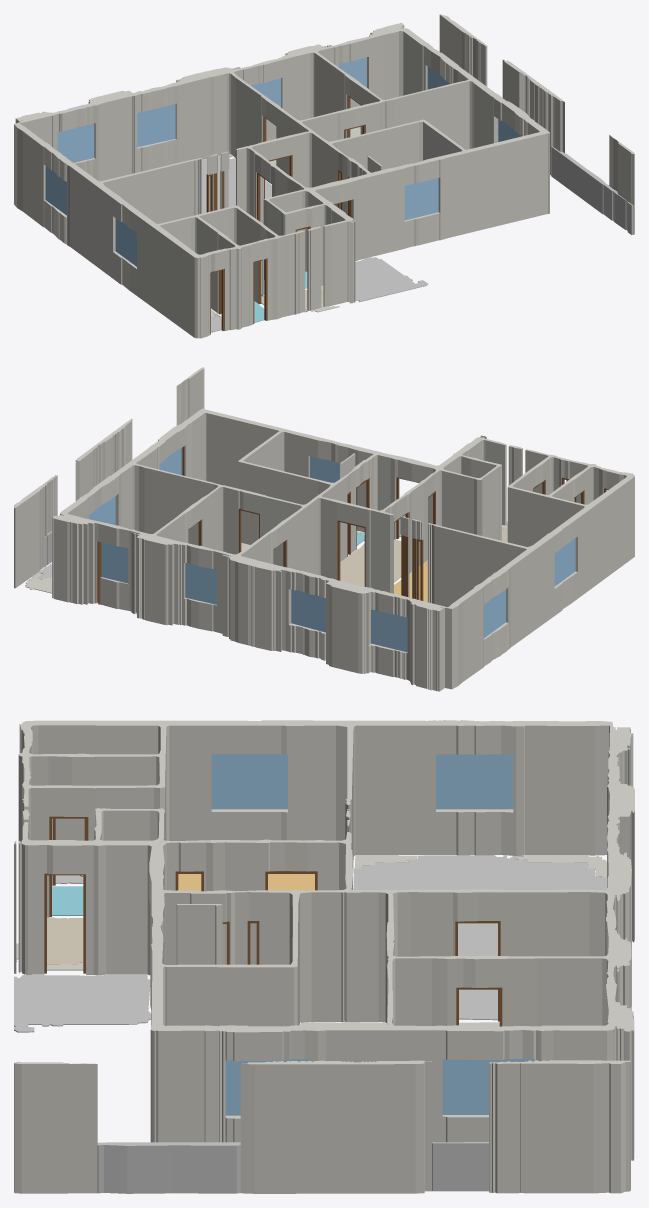
3 renders of one model, top to bottom at view 1: azimuth 30°, elevation 25°; view 2: azimuth 150°, elevation 25°; view 3: azimuth 270°, elevation 25°, orthographic. The views are drawn at different scales.
Visible parts, largest first — view 1: walls, railings, floor_0_Outdoor, window_23, window_30, window_22, floor_4_Living_Room, window_27, window_29, window_25, window_24; view 2: walls, window_22, window_23, window_24, floor_9_Entry, window_25, window_27, window_29, window_30, door_5, window_26; view 3: walls, railings, floor_4_Living_Room, floor_0_Outdoor, window_27, window_29, window_26, floor_8_Entry, floor_2_Kitchen, window_28, floor_5_Bath, floor_21_Undefined (+1 smaller).
Part boxes in pixels (bbox=[...]): walls: bbox=[14, 14, 634, 338]; railings: bbox=[551, 146, 633, 234]; floor_0_Outdoor: bbox=[355, 257, 427, 302]; window_23: bbox=[137, 104, 175, 147]; window_30: bbox=[404, 178, 438, 220]; window_22: bbox=[57, 123, 94, 162]; floor_4_Living_Room: bbox=[202, 154, 271, 213]; window_27: bbox=[45, 166, 66, 215]; window_29: bbox=[115, 218, 136, 266]; window_25: bbox=[339, 57, 367, 87]; window_24: bbox=[251, 78, 281, 107]; walls: bbox=[14, 367, 634, 691]; window_22: bbox=[371, 609, 407, 652]; window_23: bbox=[291, 589, 325, 632]; window_24: bbox=[185, 563, 216, 604]; floor_9_Entry: bbox=[340, 539, 401, 586]; window_25: bbox=[101, 542, 128, 583]; window_27: bbox=[484, 589, 505, 637]; window_29: bbox=[554, 538, 575, 586]; window_30: bbox=[310, 456, 339, 482]; door_5: bbox=[416, 539, 423, 600]; window_26: bbox=[89, 496, 115, 524]; walls: bbox=[14, 720, 634, 1193]; railings: bbox=[97, 1142, 488, 1193]; floor_4_Living_Room: bbox=[353, 855, 606, 1020]; floor_0_Outdoor: bbox=[14, 975, 151, 1032]; window_27: bbox=[436, 754, 513, 809]; window_29: bbox=[211, 754, 287, 809]; window_26: bbox=[442, 1058, 534, 1114]; floor_8_Entry: bbox=[47, 917, 83, 964]; floor_2_Kitchen: bbox=[178, 874, 314, 891]; window_28: bbox=[225, 1059, 311, 1115]; floor_5_Bath: bbox=[52, 886, 83, 915]; floor_21_Undefined: bbox=[515, 855, 606, 877].
Size of the model in its own units: 15.39 by 2.72 by 11.73.
